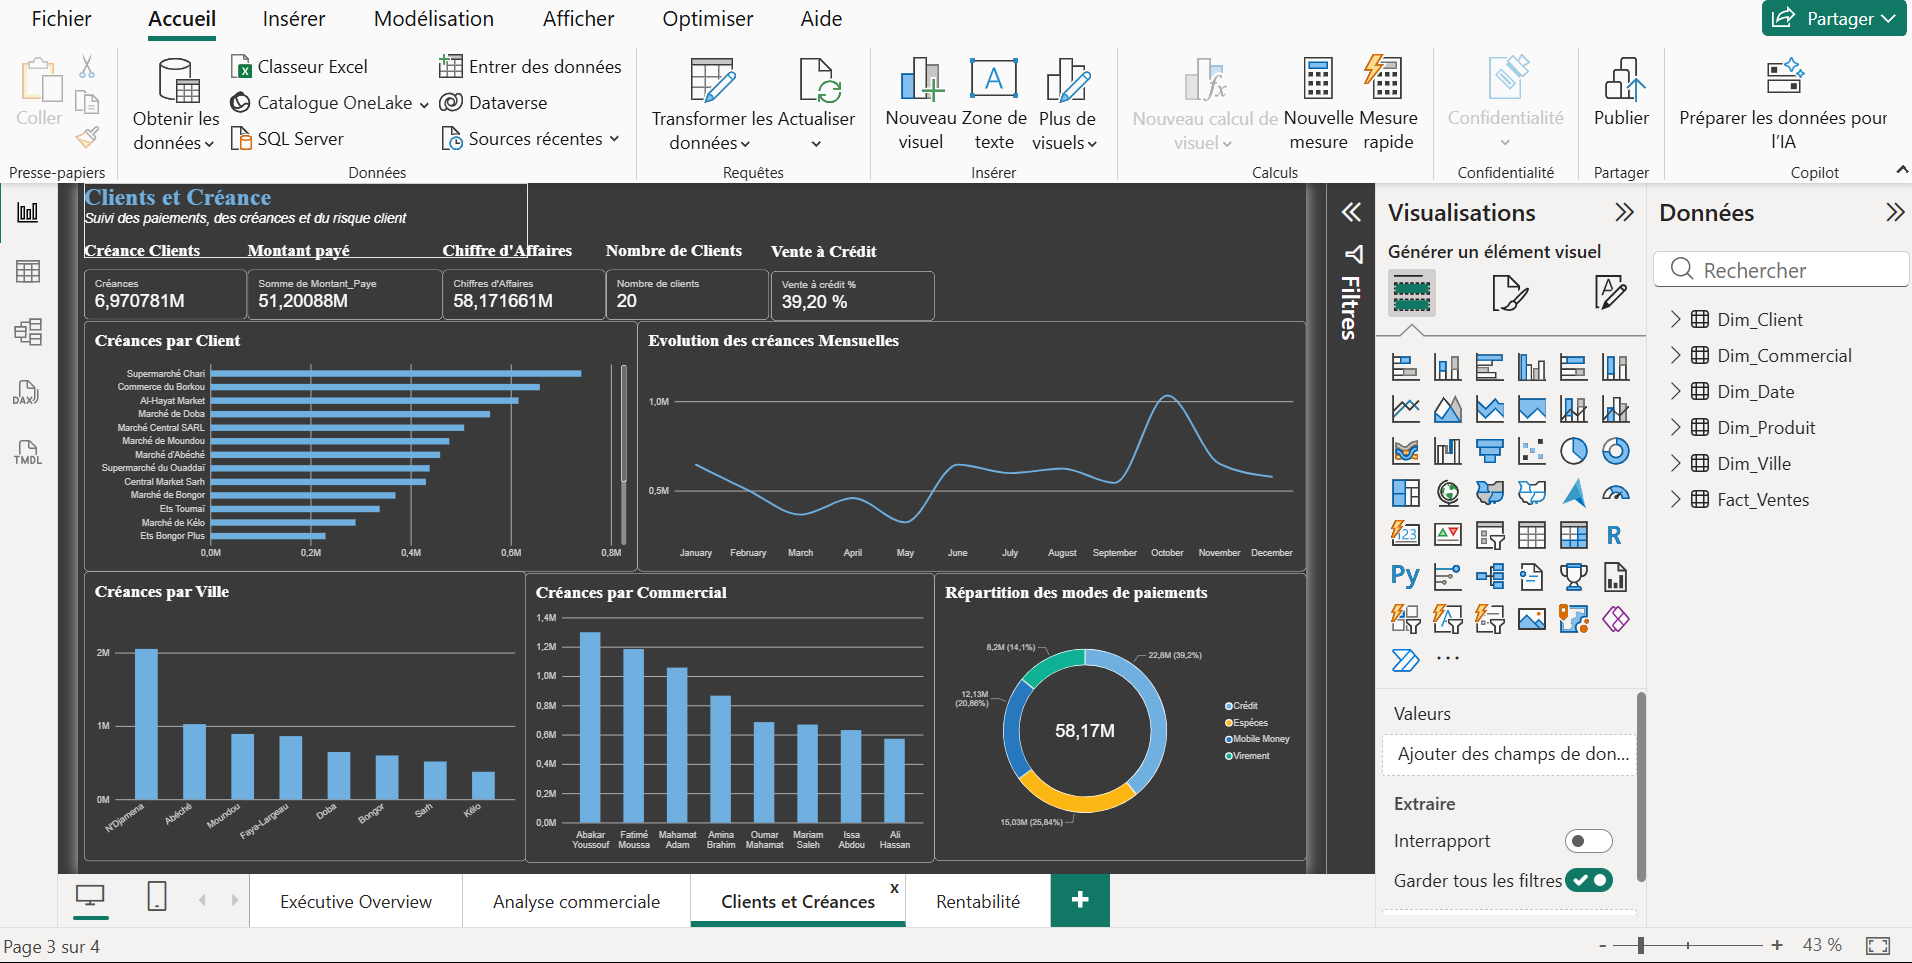

Layout of this report page (visuals, bound fields, positions):
{"tool":"powerbi","page":{"name":"Clients et Créances","canvas":[1920,1080],"ordinal":2},"visuals":[{"type":"textbox","box":[10,0,692.5,117.5],"z":0},{"type":"cardVisual","title":"Créance Clients","fields":{"Data":["Fact_Ventes.Créances"]},"box":[9.4,89.1,255.5,124.3],"z":1000},{"type":"cardVisual","title":"Montant payé","fields":{"Data":["Sum(Fact_Ventes.Montant_Paye)"]},"box":[265,90,305,125],"z":2000},{"type":"cardVisual","title":"Chiffre d''Affaires","fields":{"Data":["Fact_Ventes.Chiffres d'Affaires"]},"box":[570,90,255,125],"z":3000},{"type":"cardVisual","title":"Nombre de Clients","fields":{"Data":["Fact_Ventes.Nombre de clients"]},"box":[826,90,255,125],"z":4000},{"type":"cardVisual","title":"Vente à Crédit","fields":{"Data":["Fact_Ventes.Vente à crédit %"]},"box":[1082,92,256,124],"z":5000},{"type":"clusteredBarChart","title":"Créances par Client","fields":{"Category":["Dim_Client.Client"],"Y":["Fact_Ventes.Créances"]},"box":[9.4,215.7,865.1,391.5],"z":6000},{"type":"lineClusteredColumnComboChart","title":"Créances par Ville","fields":{"Category":["Dim_Ville.Ville"],"Y":["Fact_Ventes.Créances"]},"box":[9.4,607.2,691.6,452.5],"z":7000},{"type":"lineClusteredColumnComboChart","title":"Créances par Commercial","fields":{"Category":["Dim_Commercial.Commercial"],"Y":["Fact_Ventes.Créances"]},"box":[698.7,609.6,640,452.5],"z":8000},{"type":"lineChart","title":"Evolution des créances Mensuelles","fields":{"Category":["Dim_Date.Mois"],"Y":["Fact_Ventes.Créances"]},"box":[874.5,215.7,1045.6,391.5],"z":9000},{"type":"donutChart","title":"Répartition des modes de paiements","fields":{"Category":["Fact_Ventes.Mode_Paiement"],"Y":["Fact_Ventes.Chiffres d'Affaires"]},"box":[1338.7,609.6,581.4,450.1],"z":10000}]}

Visuals, with their boxes on the page's 1920x1080 design canvas (x1, y1, x2, y2). These are canvas units, not pixel positions in the 1912x963 screenshot, which may show the page scaled, cropped or inside an application window:
textbox: bbox=(10, 0, 702, 118)
"Créance Clients" cardVisual: bbox=(9, 89, 265, 213)
"Montant payé" cardVisual: bbox=(265, 90, 570, 215)
"Chiffre d''Affaires" cardVisual: bbox=(570, 90, 825, 215)
"Nombre de Clients" cardVisual: bbox=(826, 90, 1081, 215)
"Vente à Crédit" cardVisual: bbox=(1082, 92, 1338, 216)
"Créances par Client" clusteredBarChart: bbox=(9, 216, 874, 607)
"Créances par Ville" lineClusteredColumnComboChart: bbox=(9, 607, 701, 1060)
"Créances par Commercial" lineClusteredColumnComboChart: bbox=(699, 610, 1339, 1062)
"Evolution des créances Mensuelles" lineChart: bbox=(874, 216, 1920, 607)
"Répartition des modes de paiements" donutChart: bbox=(1339, 610, 1920, 1060)
